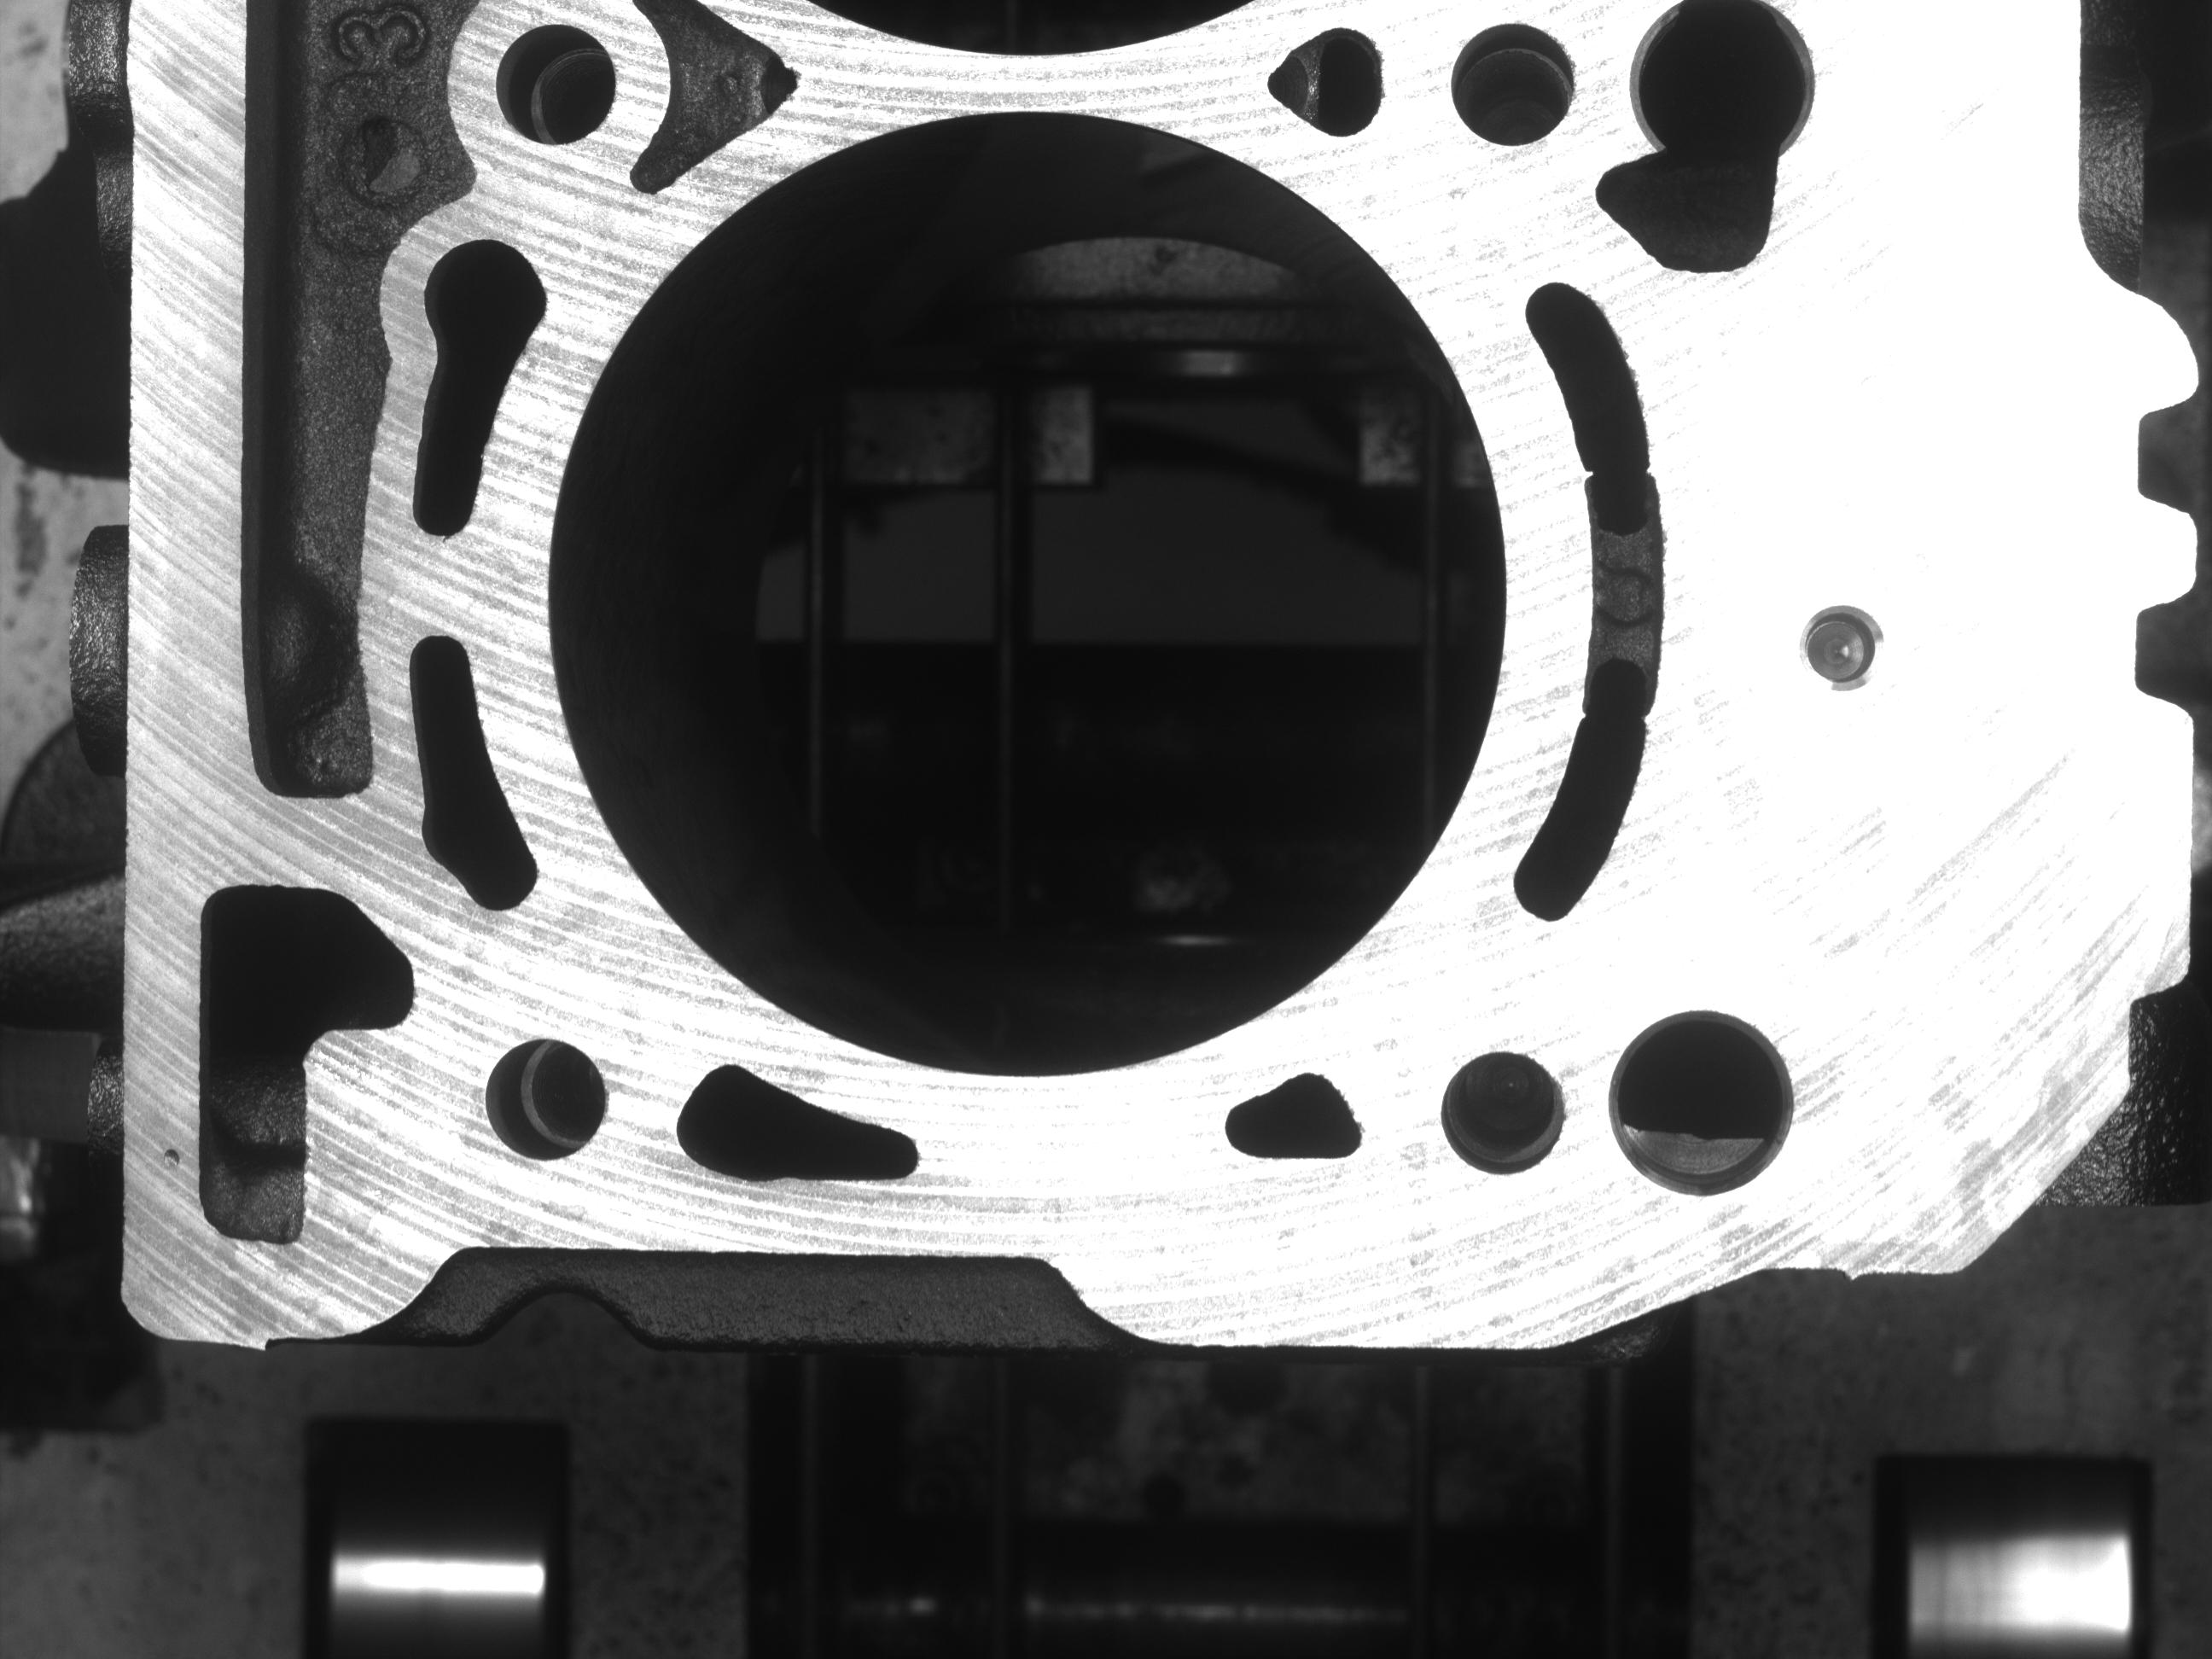crackle: (146, 1136, 185, 1188)
